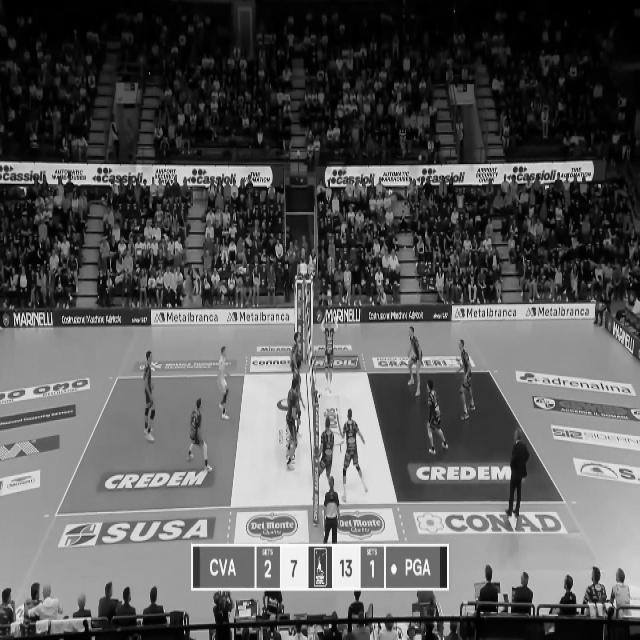volleyball court: (54, 369, 566, 518)
